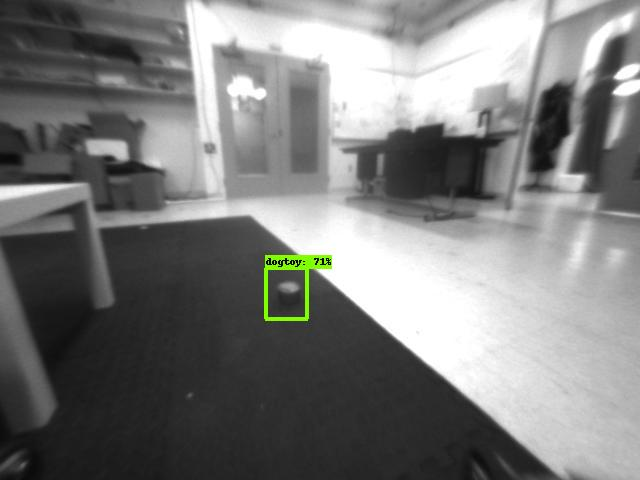dogtoy: (262, 270, 309, 308)
